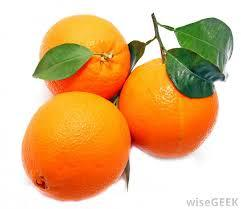orange: (6, 86, 139, 198), (105, 55, 221, 151), (43, 24, 130, 96)
